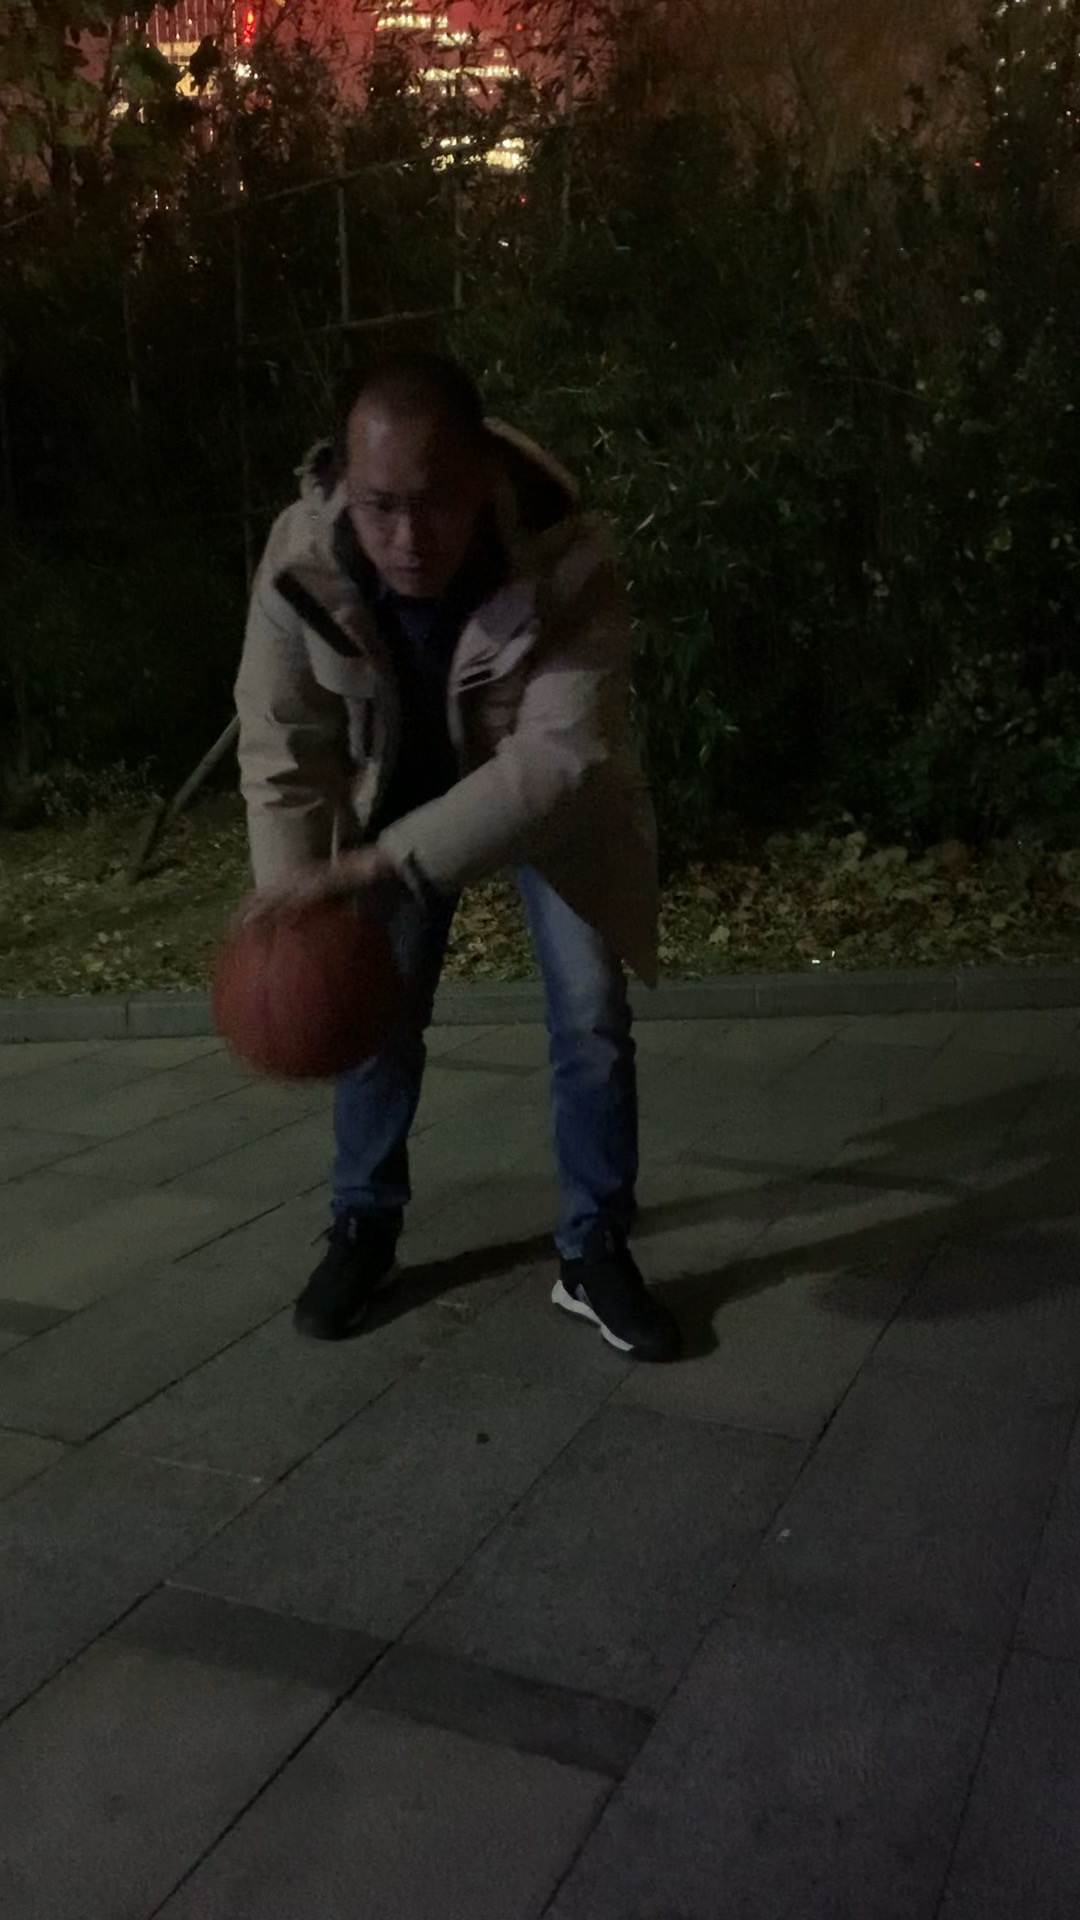ball: (214, 894, 413, 1091)
